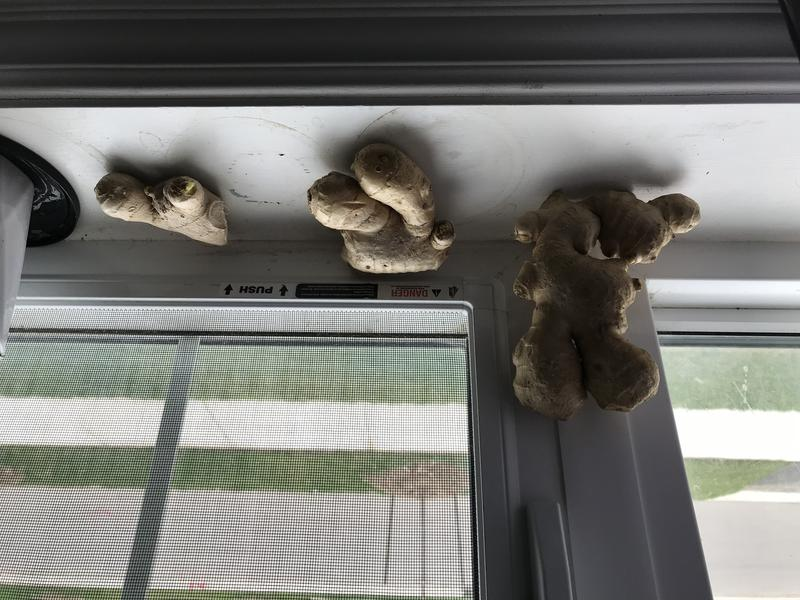ginger: (504, 172, 712, 428), (303, 136, 468, 294), (93, 163, 244, 263)
